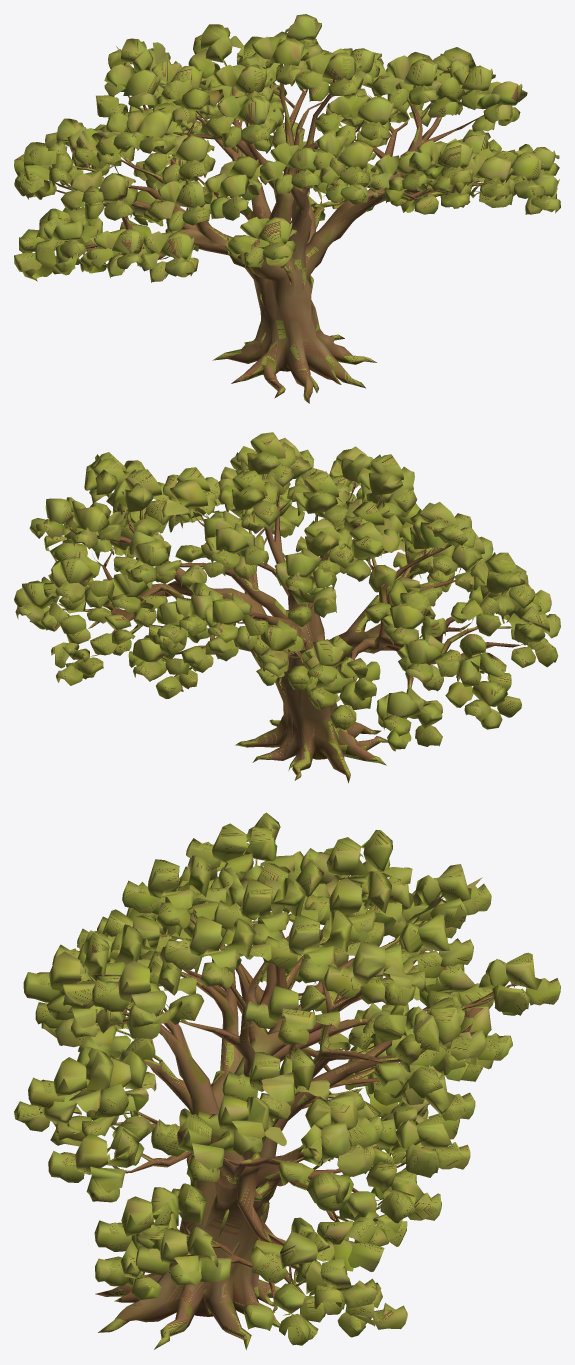
The model's file is tree-8.glb.
3 views of the same model, one above another, from view 1: azimuth 30°, elevation 25°; view 2: azimuth 150°, elevation 25°; view 3: azimuth 270°, elevation 25° (orthographic). The views are drawn at different scales.
Bounding box in the file's own units: 0.9995 × 0.5747 × 0.6694.
Materials: 1 (1 with a texture image).
